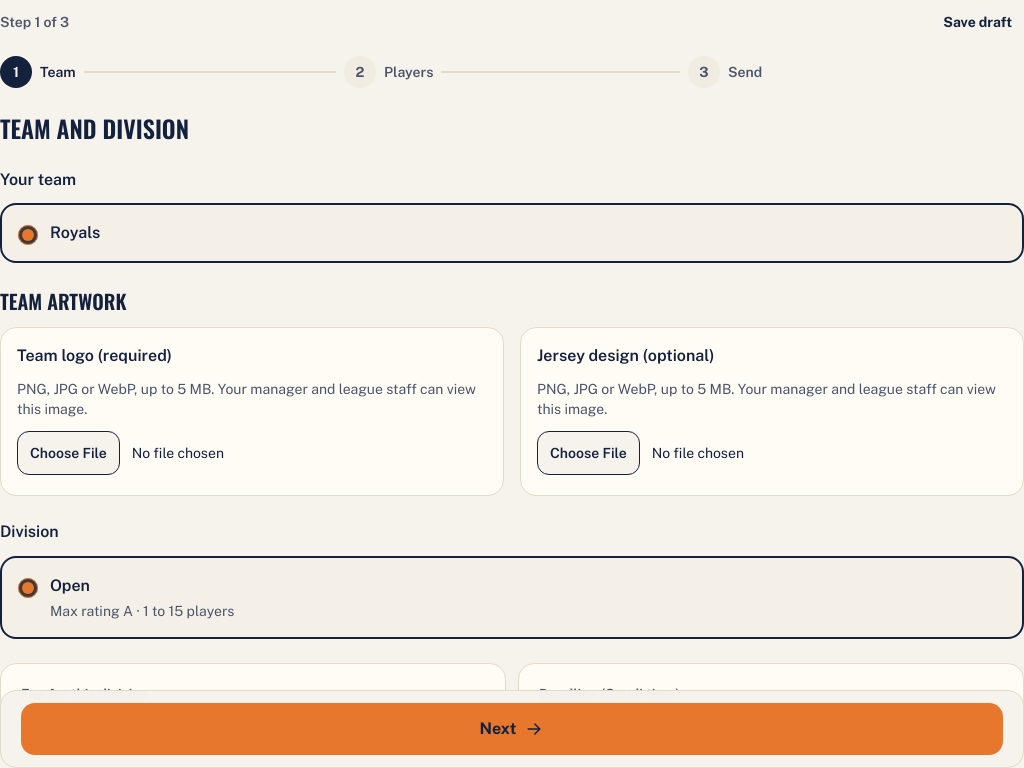
Test: building the roster › counts players against the division size
Click the button "Next" at coordinates (512, 729), box x1=21 y1=703 x2=1003 y2=755
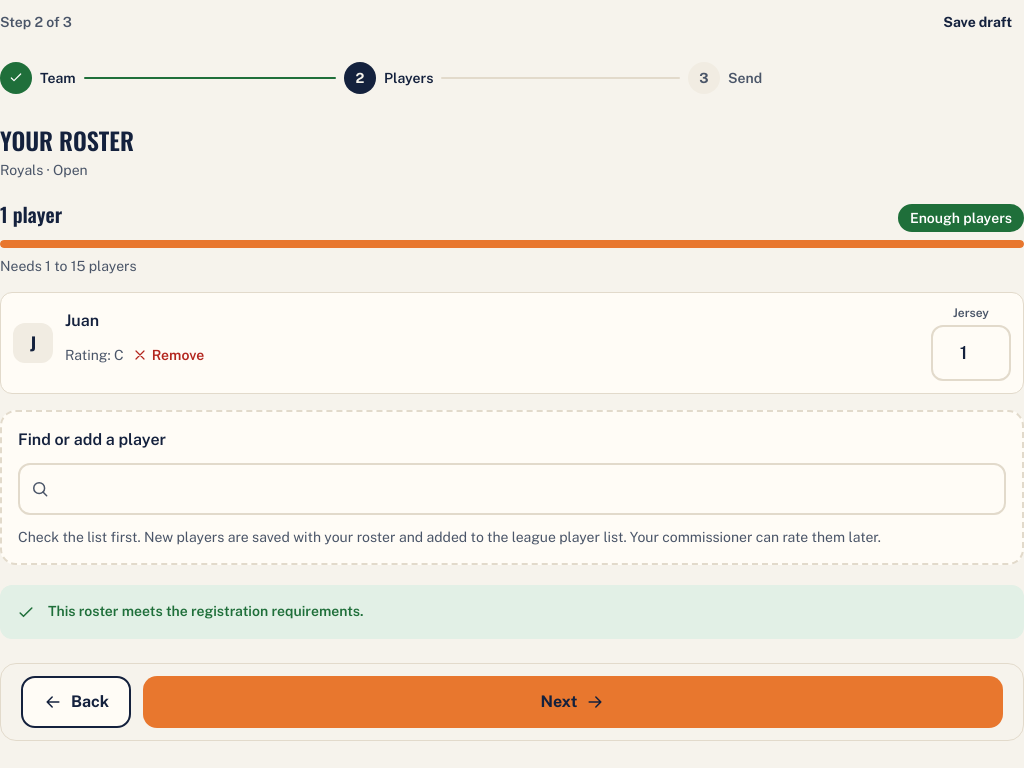
expect the heading "Your roster" is shown: met, box x1=0 y1=122 x2=134 y2=158
expect the text "1 player" is shown: met, box x1=0 y1=200 x2=62 y2=228
expect the text "Enough players" is shown: met, box x1=898 y1=204 x2=1023 y2=232
